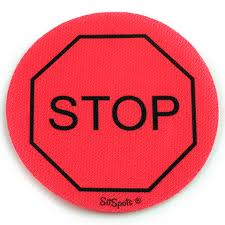SS: (7, 11, 218, 212)
